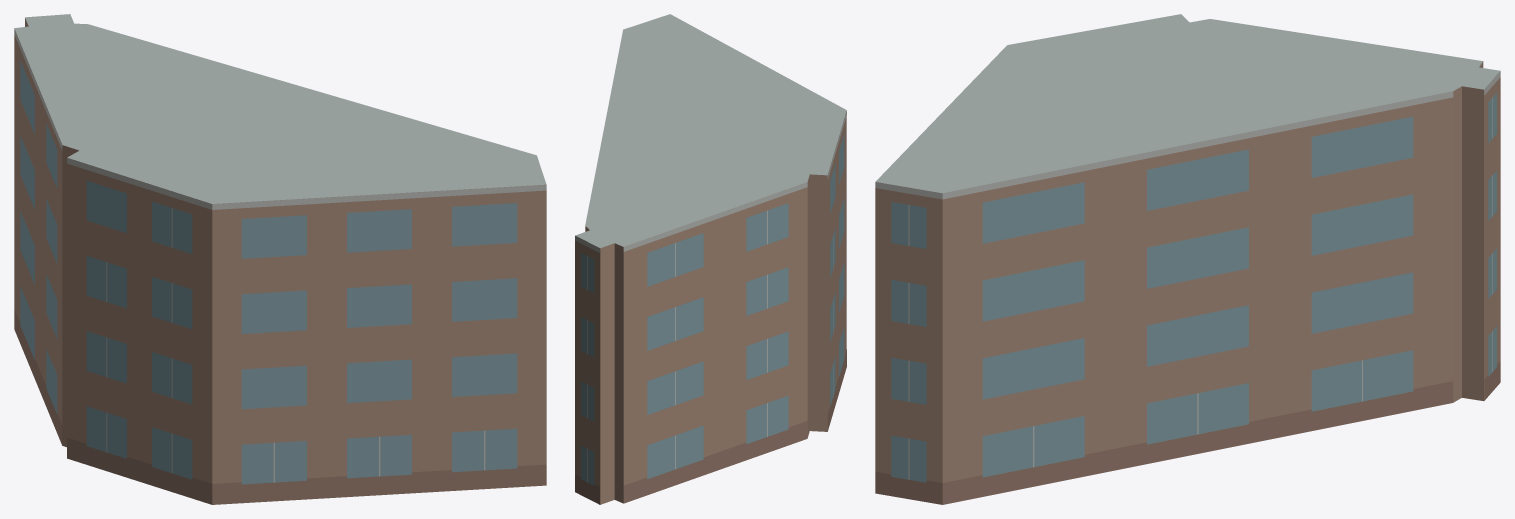
The model's file is survey-upis-32528706.glb.
3 views of the same model, side by side, from view 1: azimuth 30°, elevation 25°; view 2: azimuth 150°, elevation 25°; view 3: azimuth 270°, elevation 25° (orthographic). The views are drawn at different scales.
Visible parts, largest first — view 1: survey-upis-32528706.tmp; view 2: survey-upis-32528706.tmp; view 3: survey-upis-32528706.tmp.
Part boxes in pixels (left/top/right/bottom): survey-upis-32528706.tmp: left=14, top=14, right=546, bottom=504; survey-upis-32528706.tmp: left=575, top=14, right=846, bottom=504; survey-upis-32528706.tmp: left=875, top=14, right=1500, bottom=504.
Size of the model in its own units: 15.31 by 12.4 by 22.57.
